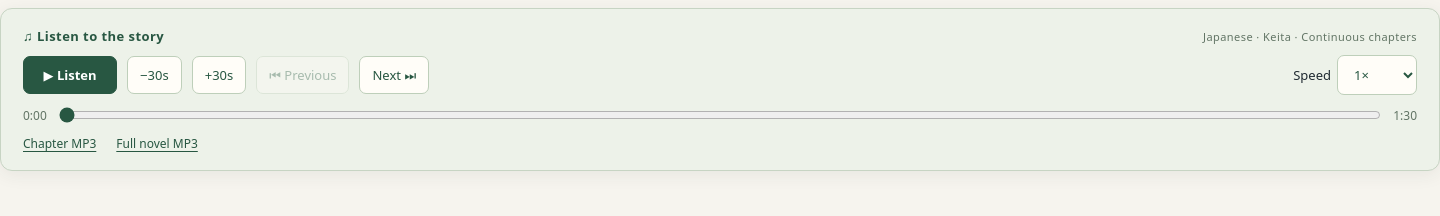
Test: reports playback errors and stops audio when the reader is unmounted
The image size is (1440, 216).
Click the button with aria-label "Play narration". click: (70, 75)
box: [23,56,117,94]
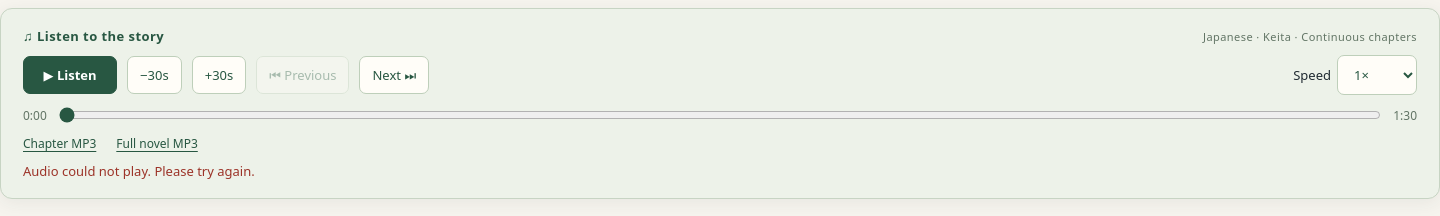
expect the message "Audio could not play. Please try again." is shown: met, box [23,162,255,180]
